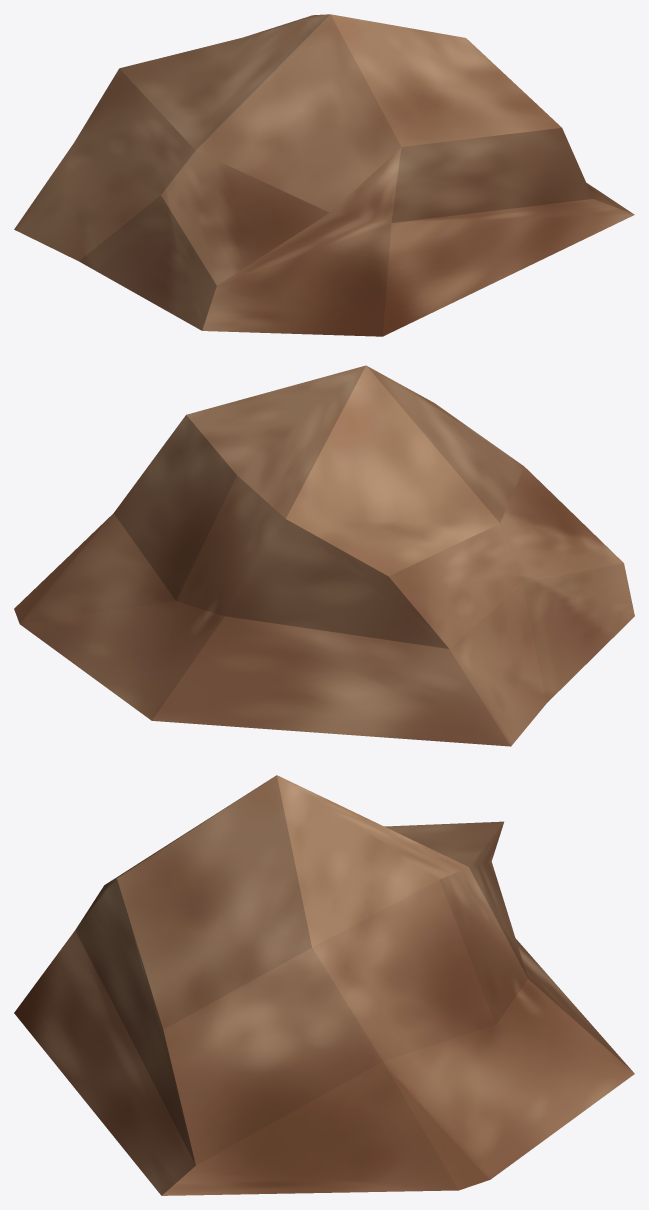
Rendered from monteTerra.fbx.
3 renders of one model, top to bottom at view 1: azimuth 30°, elevation 25°; view 2: azimuth 150°, elevation 25°; view 3: azimuth 270°, elevation 25°, orthographic. The views are drawn at different scales.
Visible parts, largest first — view 1: montinhoTerra; view 2: montinhoTerra; view 3: montinhoTerra.
Part boxes in pixels (x1,y1,x2,y2): montinhoTerra: (14, 14, 634, 336); montinhoTerra: (14, 365, 634, 746); montinhoTerra: (14, 775, 634, 1195).
Bounding box in the file's own units: 710 × 321 × 665.
